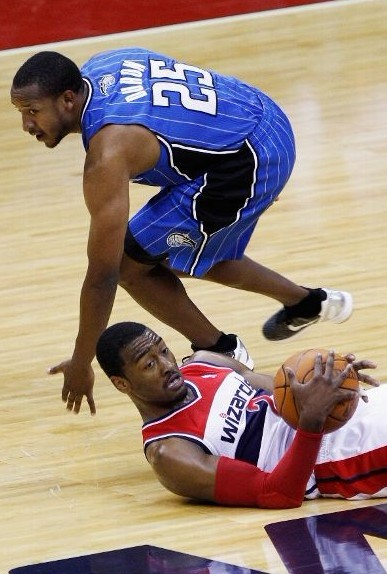fall: (73, 313, 387, 517)
